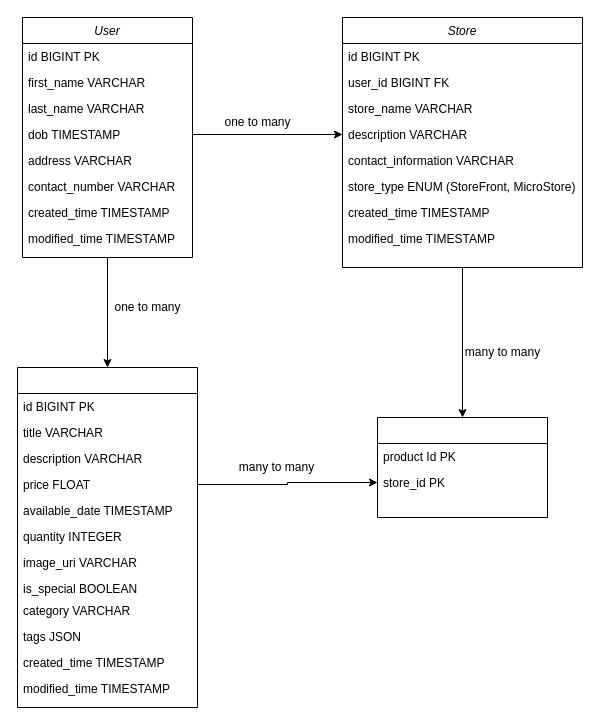
Some shapes in this 600 by 728 pixel diagram are drawn without their labels. The box of each missing label's shape, as (x1, y1, x2, y2) in pixels:
Product: (16, 366, 198, 708)
Product_Display: (376, 416, 548, 518)
